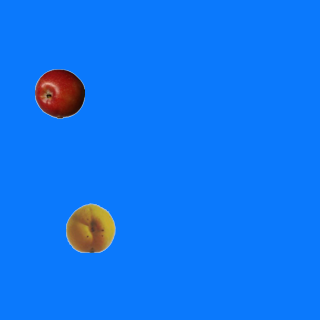Apple Braeburn: (34, 68, 84, 118)
Peach 2: (65, 202, 115, 252)
